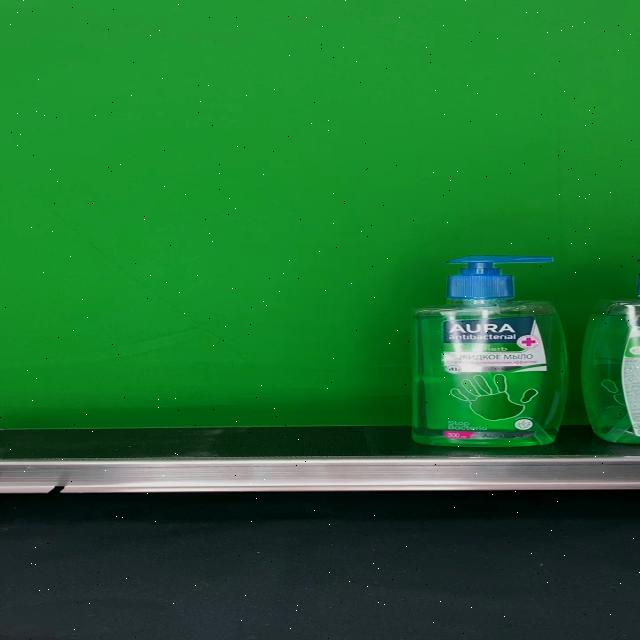Bottle: (410, 255, 569, 448)
Cap: (447, 256, 556, 300)
